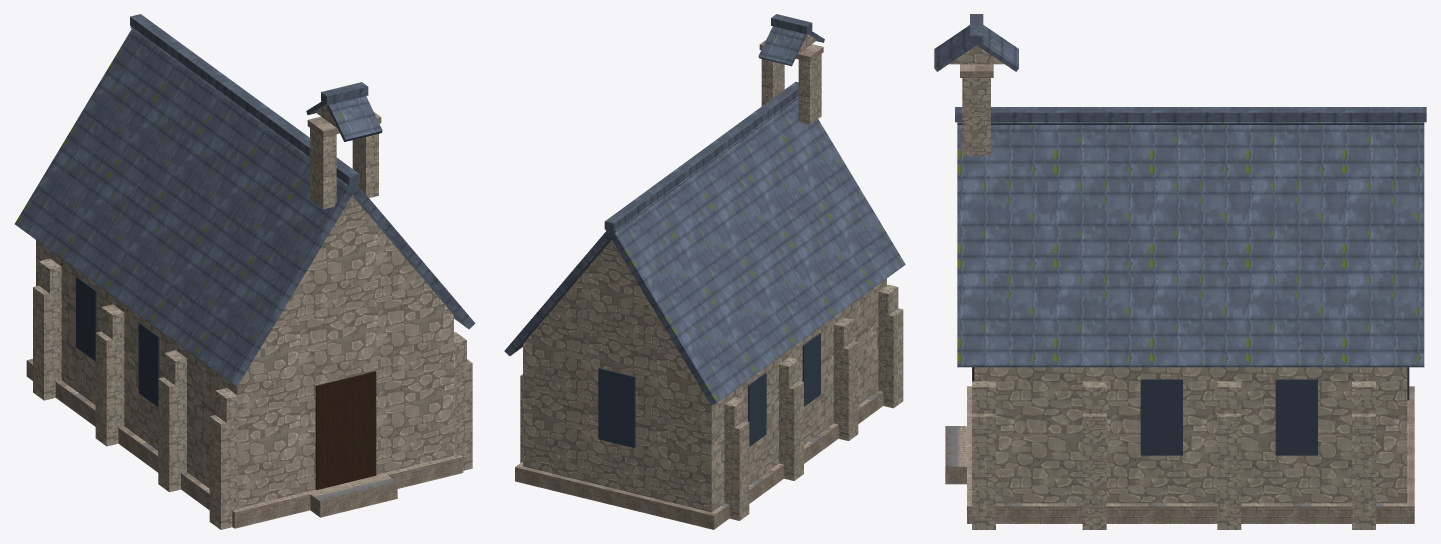
Rendered from chapel.glb.
3 views of the same model, side by side, from view 1: azimuth 30°, elevation 25°; view 2: azimuth 150°, elevation 25°; view 3: azimuth 270°, elevation 25° (orthographic). The views are drawn at different scales.
Visible parts, largest first — view 1: chapel; view 2: chapel; view 3: chapel.
Boxes of the visible parts, x1,y1,x2,y2 form: chapel: [15, 14, 475, 529]; chapel: [504, 14, 905, 529]; chapel: [934, 14, 1426, 529].
Bounding box in the file's own units: 6.5 × 10.07 × 10.23.
Materials: 5 (4 with a texture image).
